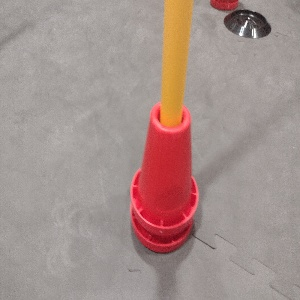Red_2: (127, 100, 199, 254)
